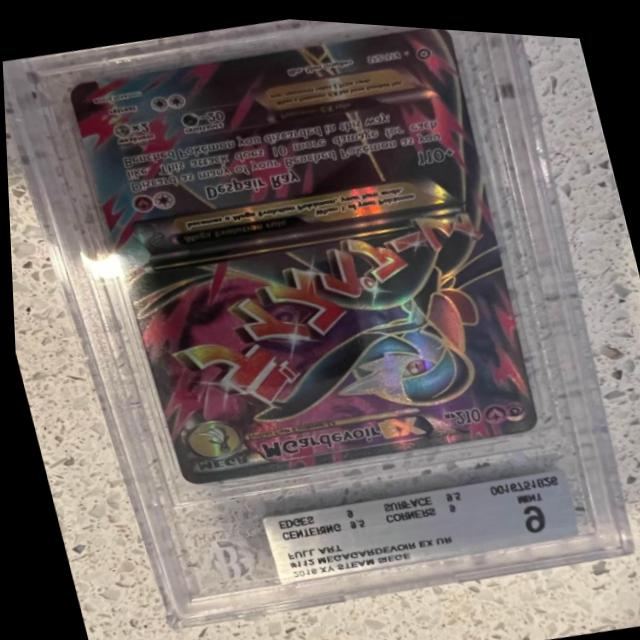card: (67, 22, 536, 482)
